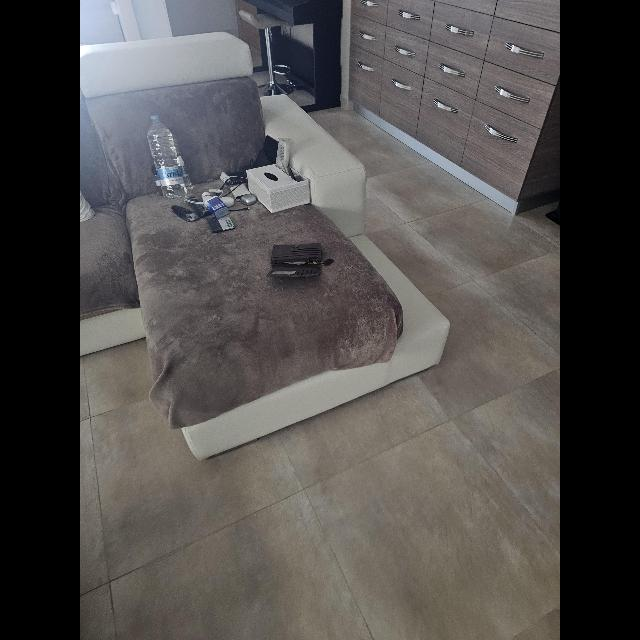Wallet: (266, 242, 334, 278)
